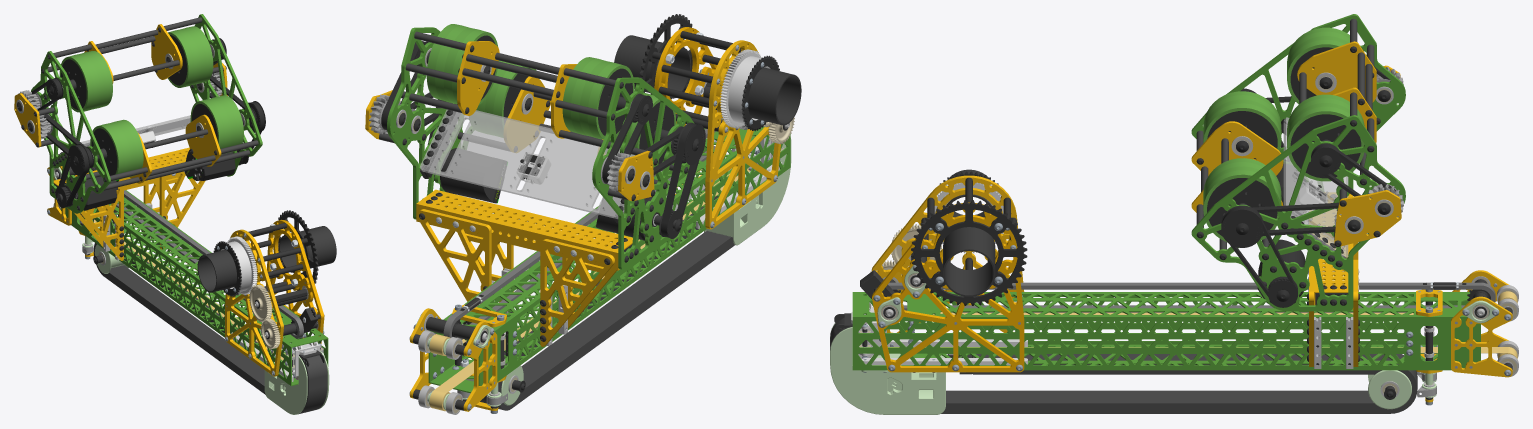
3 views of the same model, side by side, from view 1: azimuth 30°, elevation 25°; view 2: azimuth 150°, elevation 25°; view 3: azimuth 270°, elevation 25° (orthographic). The views are drawn at different scales.
Visible parts, largest first — view 1: Tube 3"x3"x32", 4" Stealth Wheel (35A, 1/2" Hex Bore) (×8), 4409T253_Lay-in Snap-Together Open Cable-Hose Carrier, O-LauncherA01_0187_6061AL_2_2026 (×2), O-LauncherA05_0250_6061AL_4_2026 (×4), O-AMA08_0250_7075AL_1_2026, O-AMA06_0250_7075AL_1_2026, 5.375 in. Round Spacer (×5), O-AMA16_5900_PLA_1_2026, Kraken X60 Brushless Motor (×2), 1/2" Hex Bore Custom Spacer (2.675" OD,2.625" L), 257L #25 Chain (+20 smaller); view 2: Tube 3"x3"x32", O-LauncherA06_0250_PC_1_2026, O-LauncherA01_0187_6061AL_2_2026 (×2), 4" Stealth Wheel (35A, 1/2" Hex Bore) (×6), O-LauncherA05_0250_6061AL_4_2026 (×4), 4409T253_Lay-in Snap-Together Open Cable-Hose Carrier, Tube 2"x1"x12", O-AMA08_0250_7075AL_1_2026, Kraken X60 Brushless Motor (×2), 1/2" Hex Bore Custom Spacer (2.675" OD,2.625" L), O-LauncherA04_0187_6061AL_2_2026 (×2), O-AMA16_5900_PLA_1_2026 (+24 smaller); view 3: Tube 3"x3"x32", 4409T253_Lay-in Snap-Together Open Cable-Hose Carrier, O-LauncherA01_0187_6061AL_2_2026 (×2), 4" Stealth Wheel (35A, 1/2" Hex Bore) (×7), O-AMA06_0250_7075AL_1_2026, O-AMA16_5900_PLA_1_2026, 257L #25 Chain, 48t Aluminum Sprocket (#35, SplineXL Bore), O-AMA08_0250_7075AL_1_2026, 1/2" Hex Bore Custom Spacer (2.675" OD,3.063" L), O-AMA09_0188_6061AL_1_2026 (×2), O-LauncherA06_0250_PC_1_2026 (+15 smaller).
Boxes of the visible parts, x1,y1,x2,y2 form: Tube 3"x3"x32": (61,190,328,385); 4" Stealth Wheel (35A, 1/2" Hex Bore) (×8): (59,26,243,181); 4409T253_Lay-in Snap-Together Open Cable-Hose Carrier: (93,243,327,414); O-LauncherA01_0187_6061AL_2_2026 (×2): (31,14,262,213); O-LauncherA05_0250_6061AL_4_2026 (×4): (74,160,205,260); O-AMA08_0250_7075AL_1_2026: (225,229,283,376); O-AMA06_0250_7075AL_1_2026: (266,219,324,343); 5.375 in. Round Spacer (×5): (95,29,215,176); O-AMA16_5900_PLA_1_2026: (264,351,329,414); Kraken X60 Brushless Motor (×2): (74,149,235,210); 1/2" Hex Bore Custom Spacer (2.675" OD,2.625" L): (197,249,236,292); 257L #25 Chain: (92,170,303,338); Tube 3"x3"x32": (428,126,790,393); O-LauncherA06_0250_PC_1_2026: (420,109,634,219); O-LauncherA01_0187_6061AL_2_2026 (×2): (387,27,694,269); 4" Stealth Wheel (35A, 1/2" Hex Bore) (×6): (426,24,675,164); O-LauncherA05_0250_6061AL_4_2026 (×4): (417,203,616,346); 4409T253_Lay-in Snap-Together Open Cable-Hose Carrier: (480,207,734,410); Tube 2"x1"x12": (416,189,632,270); O-AMA08_0250_7075AL_1_2026: (705,40,780,229); Kraken X60 Brushless Motor (×2): (440,148,659,240); 1/2" Hex Bore Custom Spacer (2.675" OD,2.625" L): (748,67,801,125); O-LauncherA04_0187_6061AL_2_2026 (×2): (457,41,576,138); O-AMA16_5900_PLA_1_2026: (703,136,791,245); Tube 3"x3"x32": (852,292,1480,370); 4409T253_Lay-in Snap-Together Open Cable-Hose Carrier: (830,317,1417,413); O-LauncherA01_0187_6061AL_2_2026 (×2): (1191,14,1405,311); 4" Stealth Wheel (35A, 1/2" Hex Bore) (×7): (1203,36,1364,242); O-AMA06_0250_7075AL_1_2026: (872,202,1024,372); O-AMA16_5900_PLA_1_2026: (830,323,945,414); 257L #25 Chain: (888,282,1495,312); 48t Aluminum Sprocket (#35, SplineXL Bore): (911,200,1027,305); O-AMA08_0250_7075AL_1_2026: (872,175,1024,332); 1/2" Hex Bore Custom Spacer (2.675" OD,3.063" L): (943,227,995,296); O-AMA09_0188_6061AL_1_2026 (×2): (1451,270,1512,377); O-LauncherA06_0250_PC_1_2026: (1283,117,1348,258).
Size of the model in its own units: 0.3966 by 0.4888 by 0.8912.
